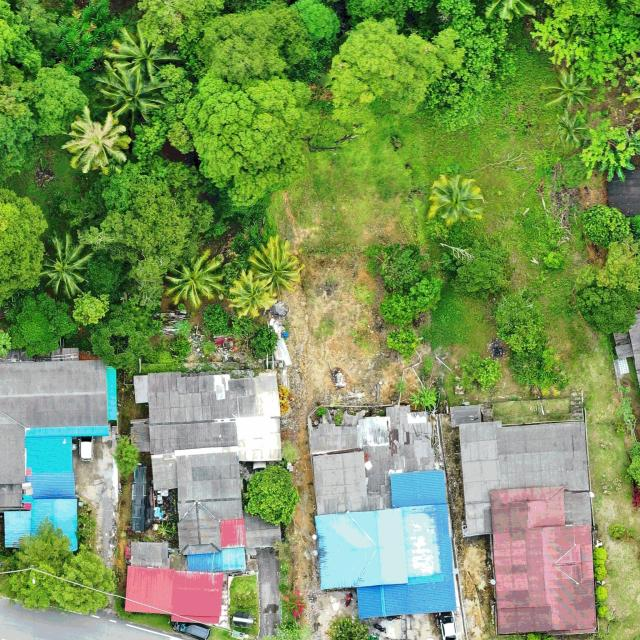Tree: (75, 175, 214, 308), (180, 73, 316, 208), (328, 16, 465, 134), (8, 517, 117, 616), (195, 0, 312, 84), (364, 242, 442, 327), (89, 298, 163, 370), (2, 289, 78, 359), (20, 65, 89, 137), (93, 61, 167, 128), (61, 106, 130, 174), (439, 242, 510, 302), (105, 24, 178, 79), (163, 249, 226, 310), (242, 461, 300, 527), (41, 232, 94, 298), (246, 236, 304, 294), (575, 283, 639, 335), (493, 290, 542, 351), (428, 173, 483, 227), (228, 270, 276, 320), (580, 202, 630, 248), (542, 66, 593, 111), (83, 256, 126, 304), (460, 353, 502, 392), (71, 291, 111, 326), (597, 150, 635, 183), (554, 112, 588, 148), (112, 438, 142, 477), (408, 384, 440, 413)
